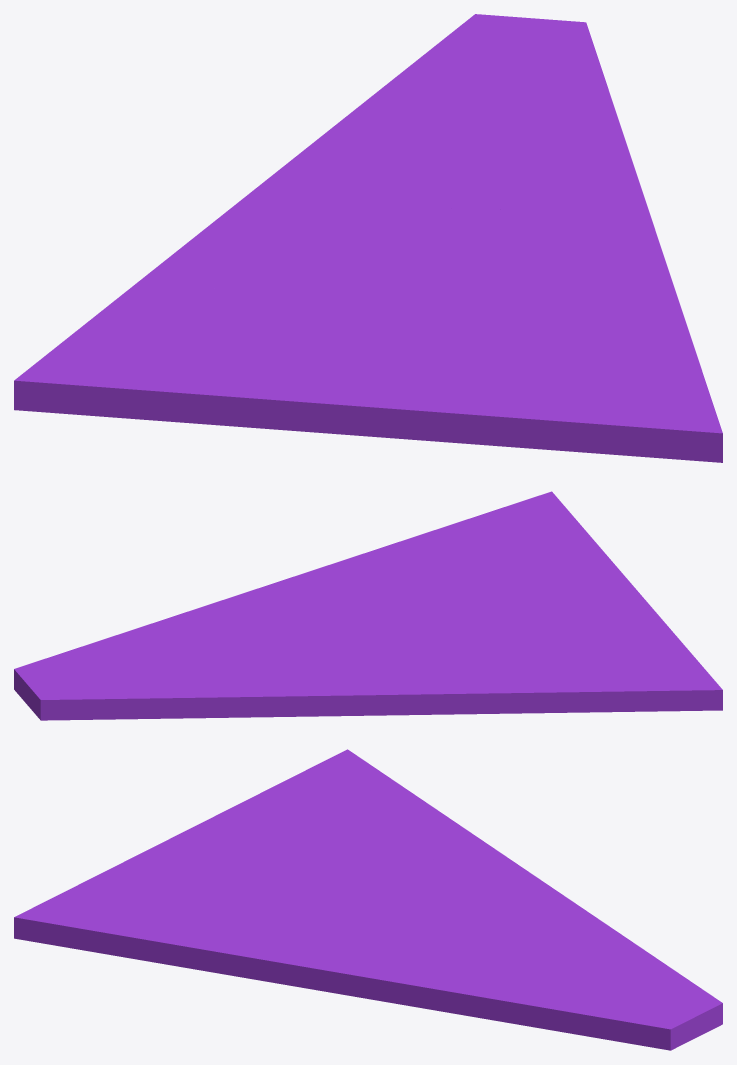
The model's file is StairsStep_43_chunks.fbx.
The picture shows the model from 3 angles, top to bottom: view 1: azimuth 30°, elevation 25°; view 2: azimuth 150°, elevation 25°; view 3: azimuth 270°, elevation 25°; orthographic projection. The views are drawn at different scales.
Parts seen in each view (by area): view 1: StairsStep_43_0, StairsStep_43_2, StairsStep_43_3, StairsStep_43_1; view 2: StairsStep_43_0, StairsStep_43_2, StairsStep_43_1, StairsStep_43_3; view 3: StairsStep_43_0, StairsStep_43_2, StairsStep_43_3, StairsStep_43_1.
Part boxes in pixels (left/top/right/bottom): StairsStep_43_0: left=278, top=196, right=722, bottom=462; StairsStep_43_2: left=306, top=14, right=643, bottom=212; StairsStep_43_3: left=36, top=192, right=464, bottom=429; StairsStep_43_1: left=14, top=149, right=396, bottom=423; StairsStep_43_0: left=242, top=491, right=651, bottom=633; StairsStep_43_2: left=14, top=594, right=326, bottom=720; StairsStep_43_1: left=278, top=658, right=722, bottom=716; StairsStep_43_3: left=322, top=607, right=717, bottom=683; StairsStep_43_0: left=14, top=819, right=432, bottom=1003; StairsStep_43_2: left=393, top=910, right=722, bottom=1050; StairsStep_43_3: left=210, top=754, right=486, bottom=928; StairsStep_43_1: left=337, top=749, right=584, bottom=917.
Size of the model in its own units: 507 by 17.94 by 542.
